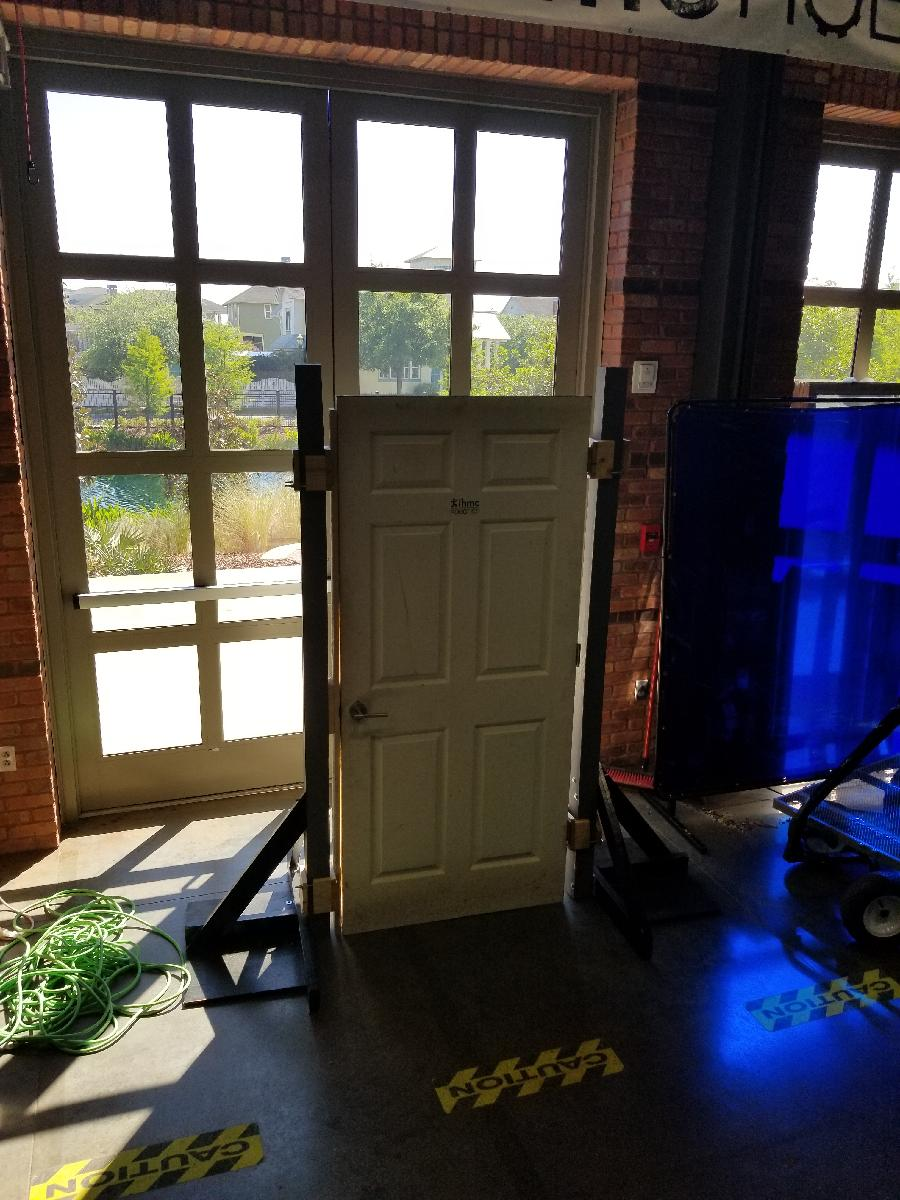door: (332, 391, 597, 946)
doorHandle: (343, 698, 391, 733)
